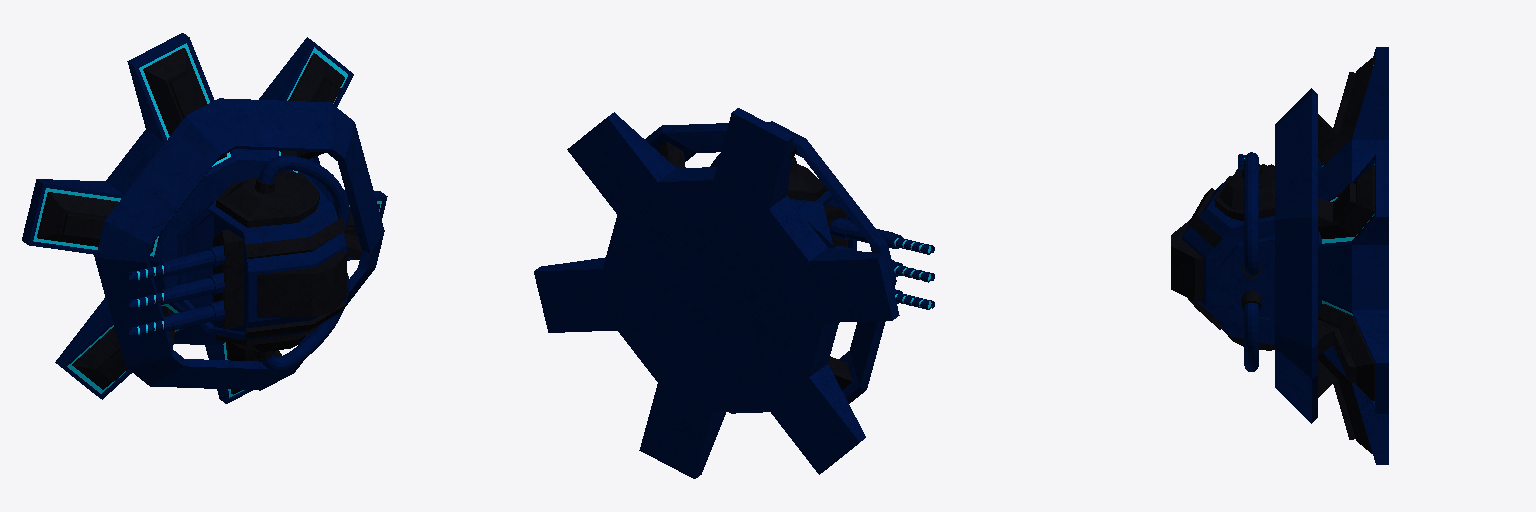
3 renders of one model, left to right at view 1: azimuth 30°, elevation 25°; view 2: azimuth 150°, elevation 25°; view 3: azimuth 270°, elevation 25°, orthographic.
Visible parts, largest first — view 1: Laser_turret; view 2: Laser_turret; view 3: Laser_turret.
Part boxes in pixels (bbox=[...]): Laser_turret: bbox=[22, 33, 387, 403]; Laser_turret: bbox=[534, 108, 934, 478]; Laser_turret: bbox=[1171, 47, 1388, 464].
Size of the model in its own units: 6.07 by 6.07 by 3.2.
1 materials, 1 textured.